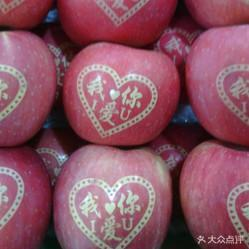apple: (63, 40, 180, 146), (53, 146, 173, 249), (184, 20, 249, 147), (182, 141, 249, 245), (1, 26, 57, 148), (56, 1, 177, 49), (1, 150, 51, 249)
